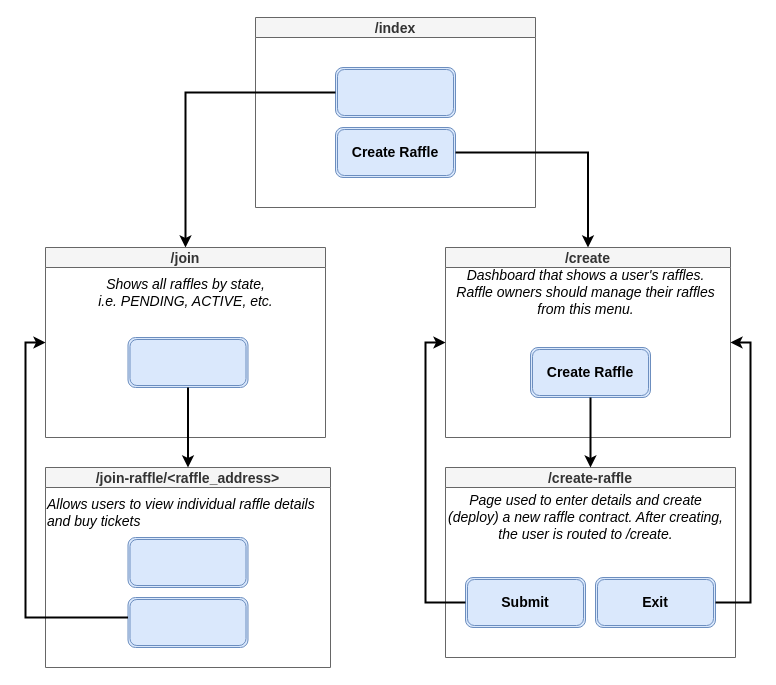
The diagram is 776 pixels wide and 685 high, and some of its shapes have lost their labels. Here are the shapes that lost their labels. From the top down, the centre of each, then its label:
At (x=395, y=92): "Join Raffle".
At (x=187, y=362): "Enter Raffle".
At (x=187, y=562): "Buy Tickets".
At (x=187, y=622): "Back".
